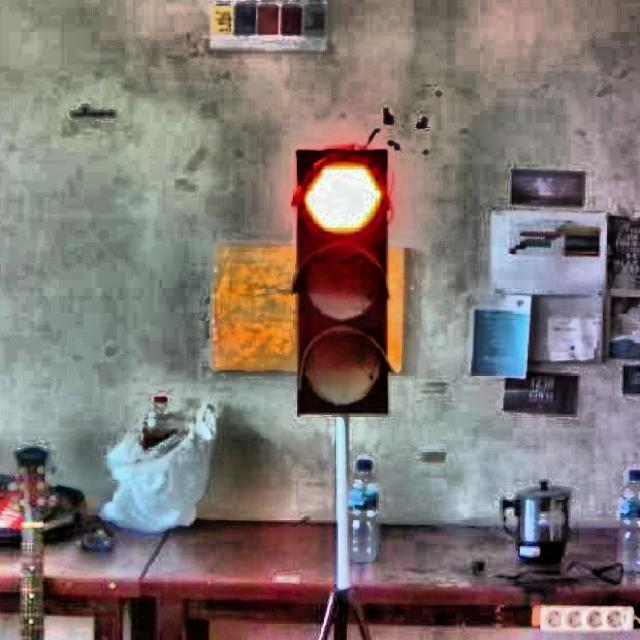red: (286, 139, 396, 413)
